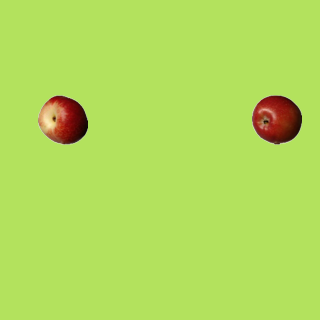Apple Braeburn: (251, 94, 301, 144)
Nectarine: (37, 94, 87, 144)
